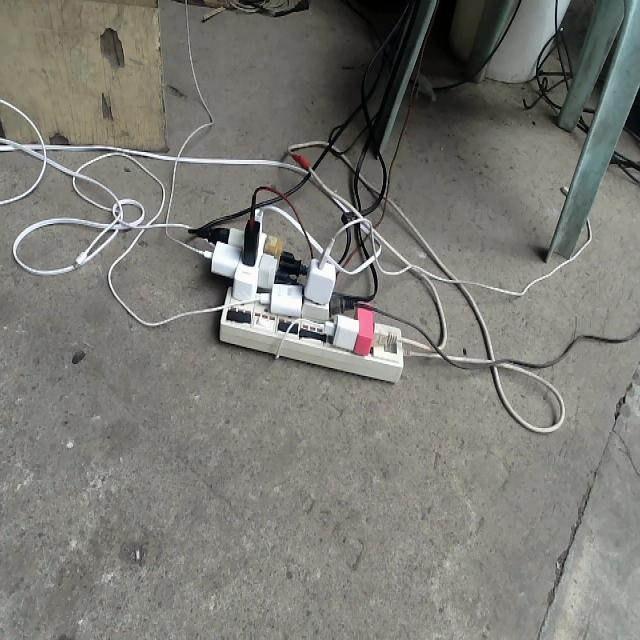-: (190, 190, 402, 382)
